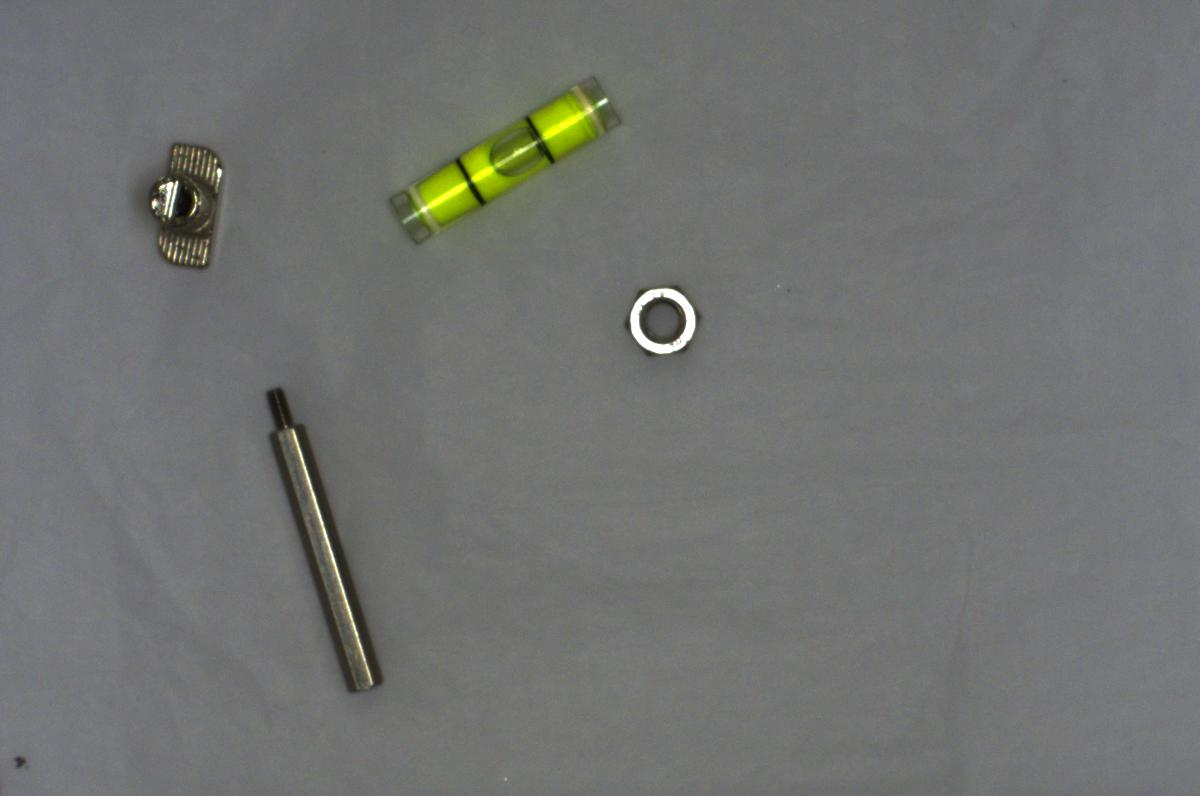Hexagon nut: (614, 280, 702, 363)
Hexagonal steel column: (260, 375, 391, 705)
Horizontal bubble: (384, 72, 624, 246)
T-shaped screw: (146, 139, 228, 265)
